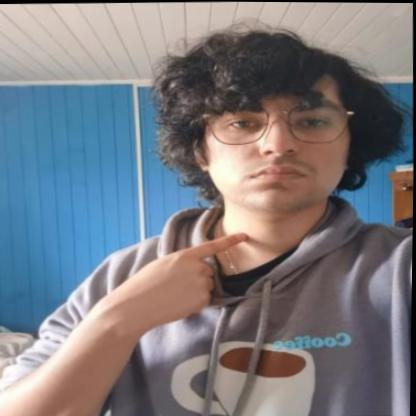Q: (99, 229, 250, 325)
